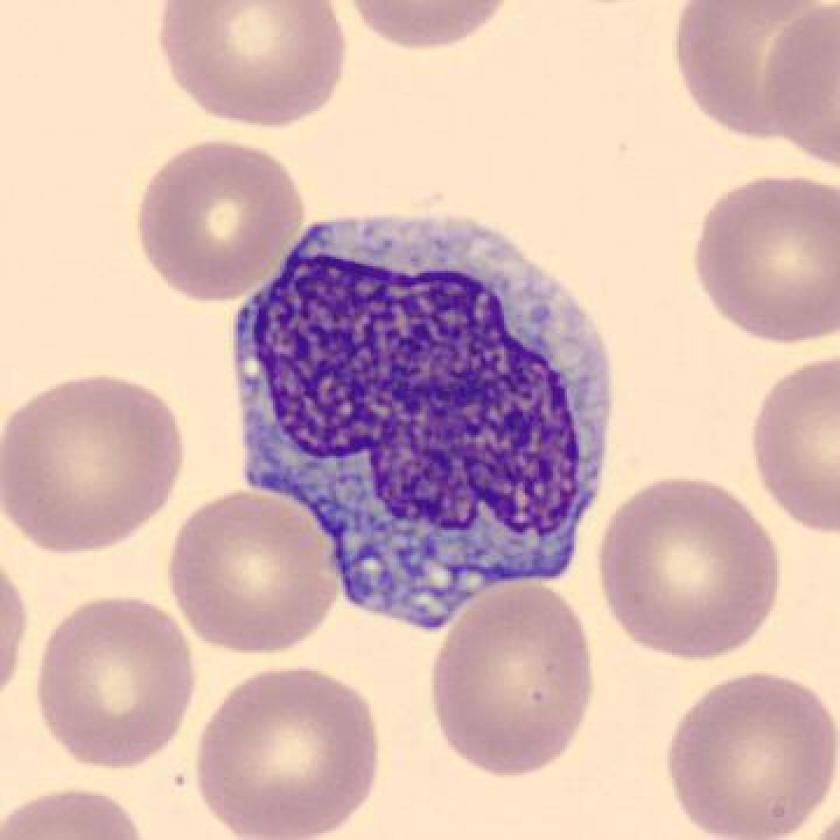monocyte: (216, 184, 636, 649)
